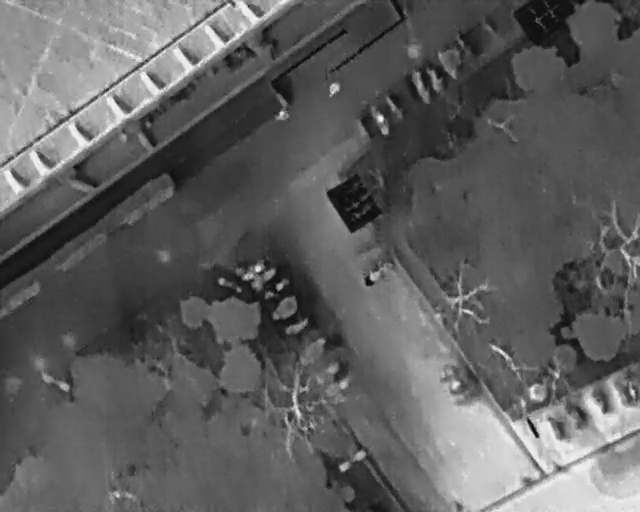Bicycle: (293, 332, 333, 370), (561, 391, 594, 435), (243, 261, 282, 298), (266, 290, 304, 327), (359, 254, 396, 290), (434, 40, 466, 81), (407, 62, 436, 107), (258, 272, 295, 305), (380, 90, 410, 127), (238, 253, 271, 284), (543, 408, 569, 445), (282, 311, 314, 341), (447, 384, 482, 410), (366, 101, 391, 137), (588, 382, 615, 415), (214, 271, 245, 298), (424, 61, 447, 94), (445, 374, 474, 398), (434, 360, 462, 383)
Person: (328, 80, 341, 100), (275, 109, 291, 123)
